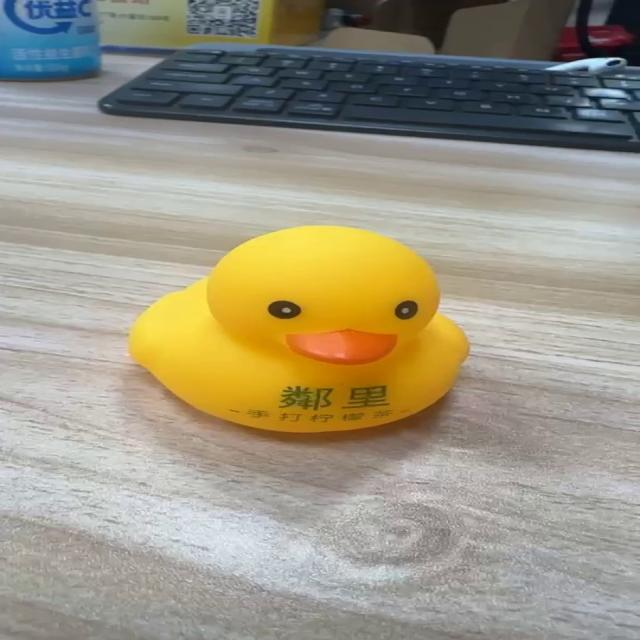yellow_duck: (126, 224, 470, 434)
